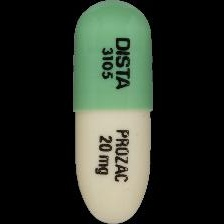16590-843: (0, 0, 224, 224)
